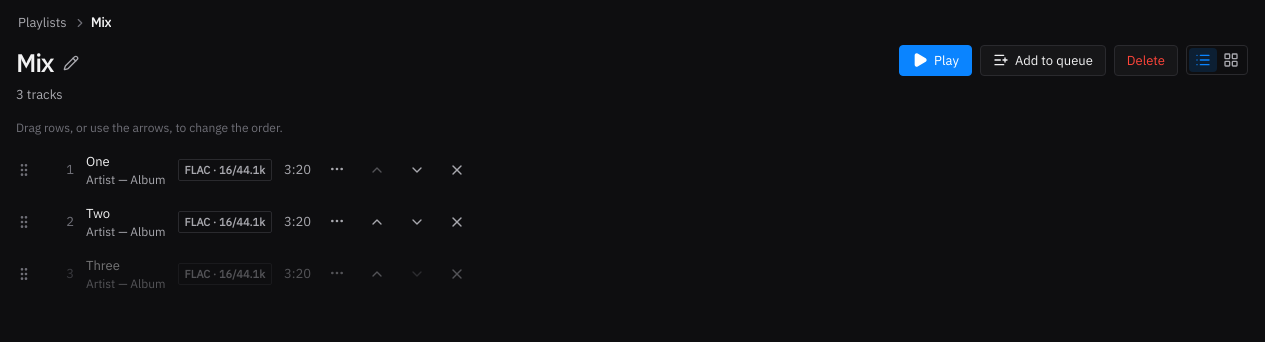
Test: PlaylistDetail › list or grid, and dragging to reorder › shows the tracks as a grid of cards, and remembers it
The width and height of the screenshot is (1265, 342).
Click the button named "Grid": point(1231, 60) [1217,48,1245,72]
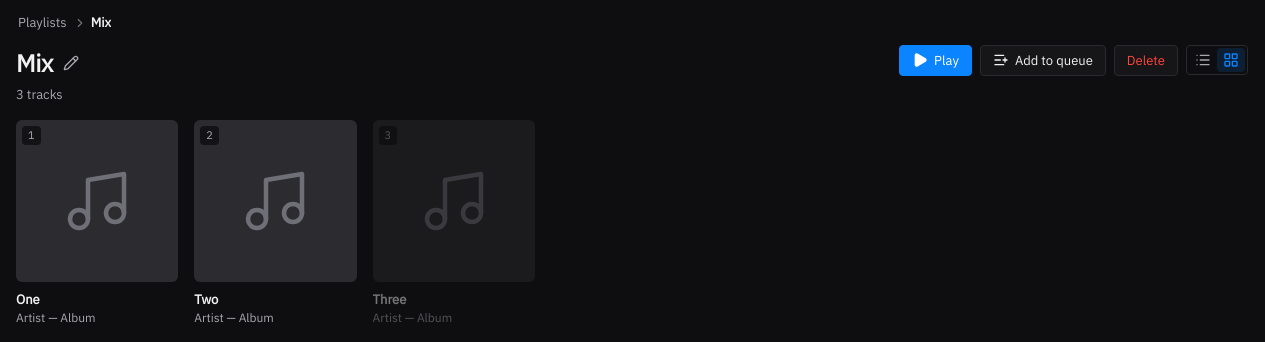
Check: the number of elements with test id "track-card" is 3, box [16,120,178,326]; [194,120,357,326]; [373,120,535,326]
